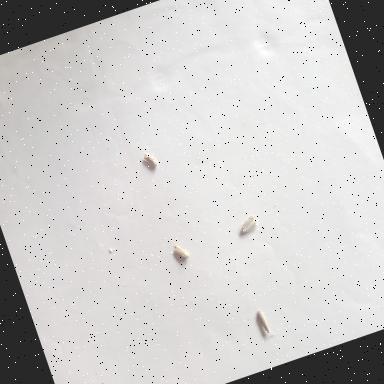pbw: (238, 214, 259, 235), (172, 240, 192, 262), (257, 308, 272, 334), (142, 150, 158, 169)
